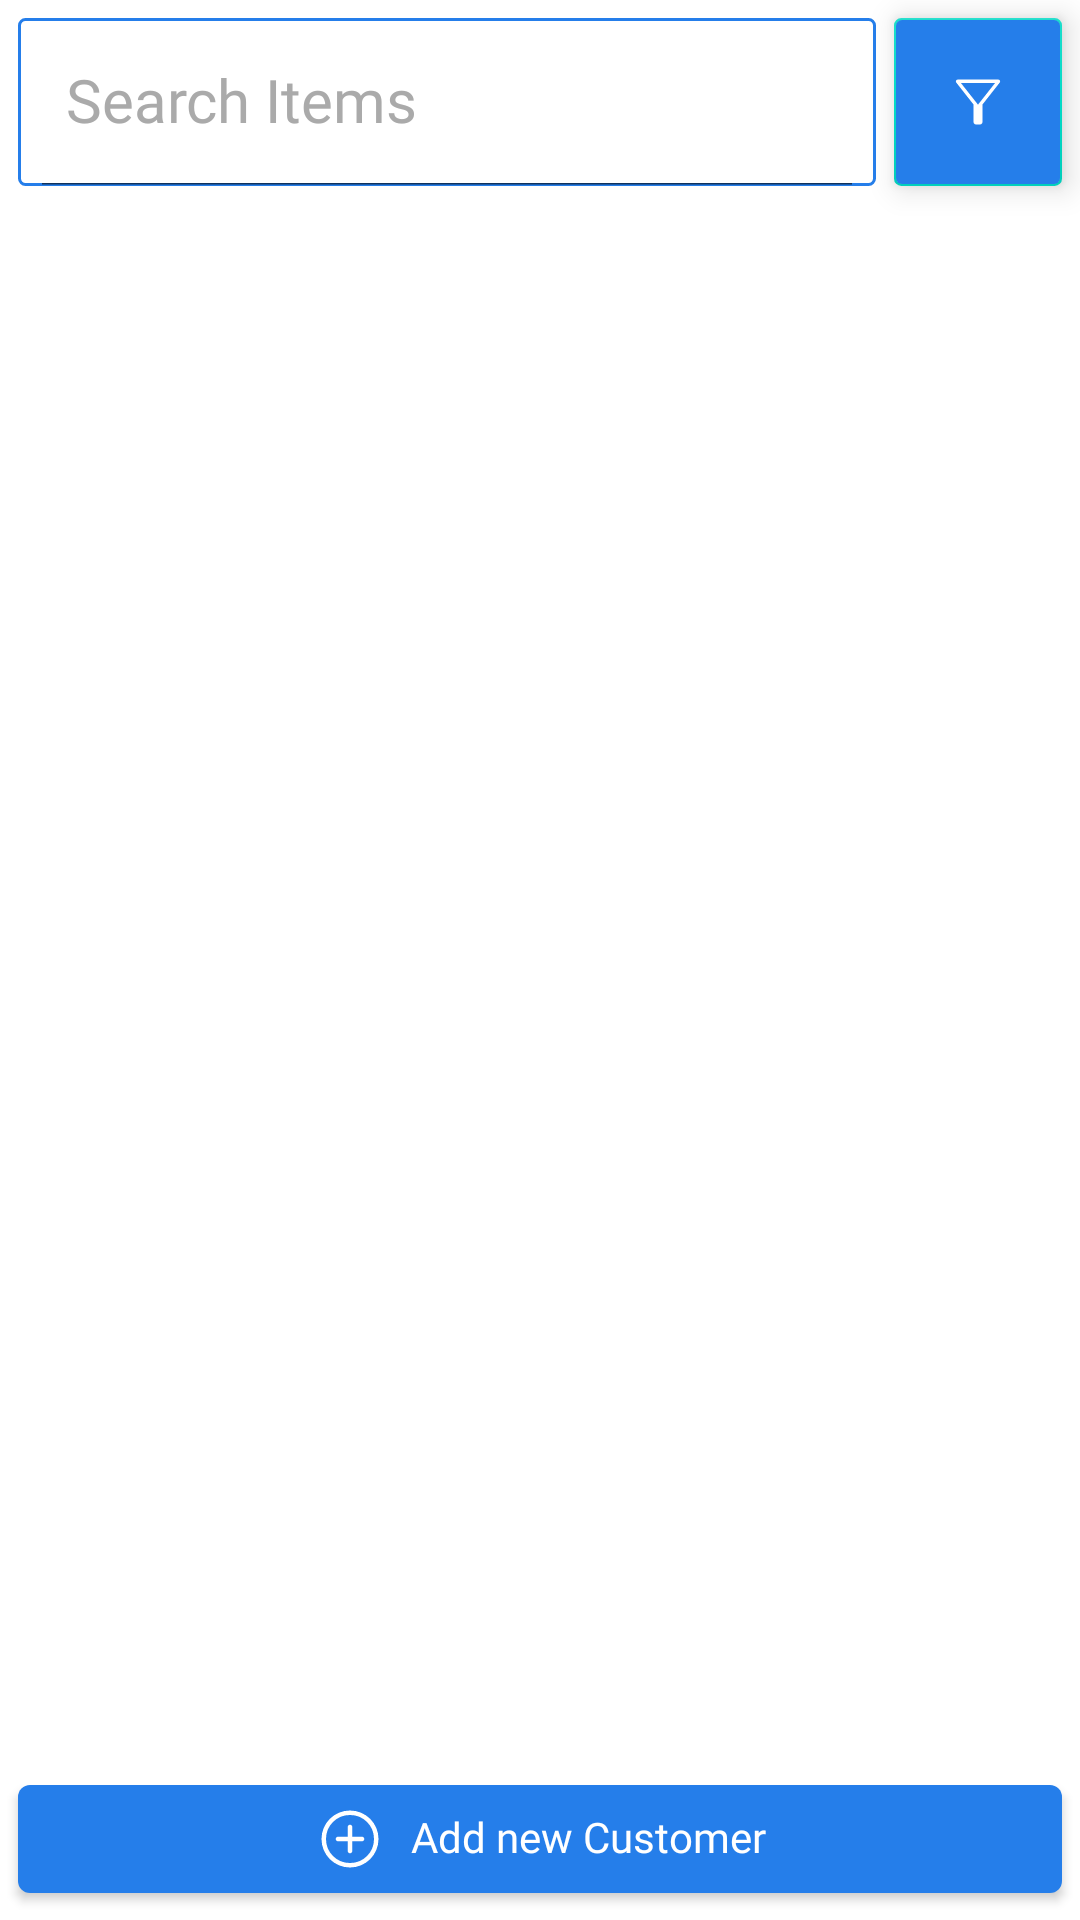

Locate icon controls on the screen. Image size 1080 × 1920, boxes as (x1, y1, x2, y2).
filter: (894, 18, 1062, 186)
